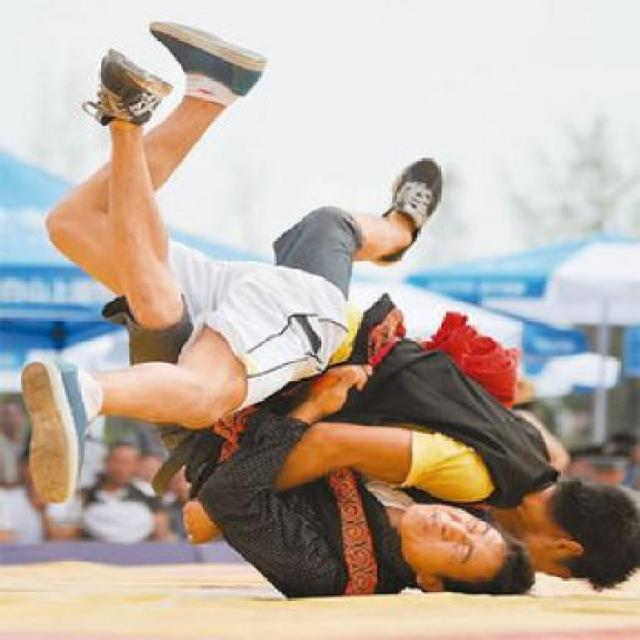fall: (0, 67, 446, 501)
